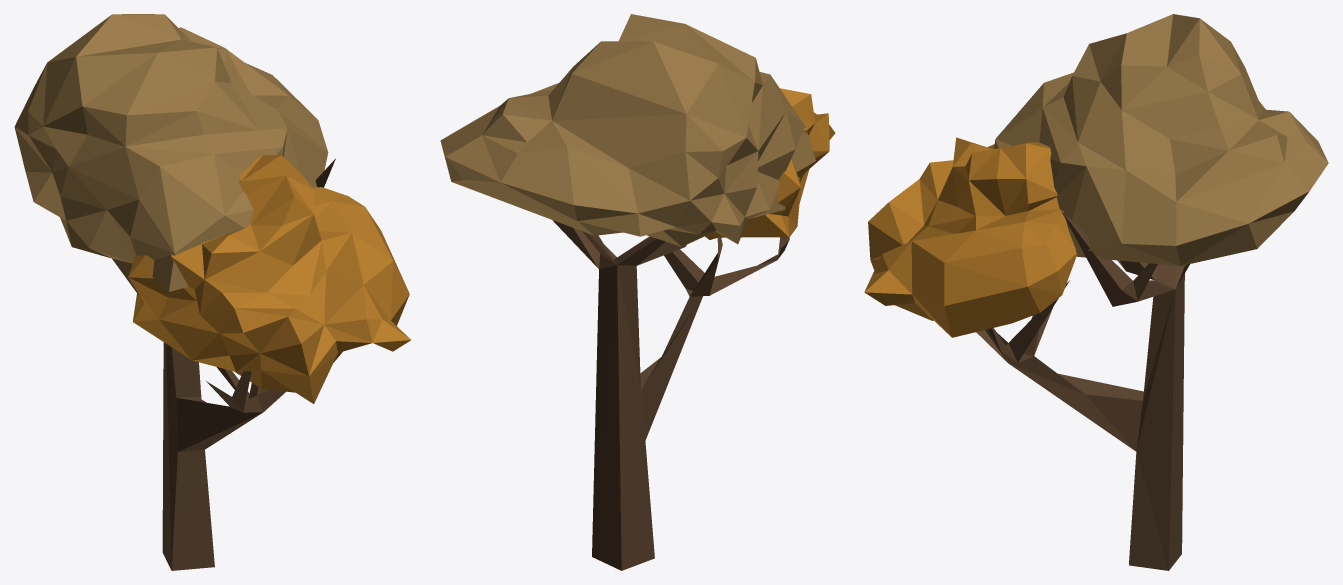
File: tree_autumn_2.glb
3 views of the same model, side by side, from view 1: azimuth 30°, elevation 25°; view 2: azimuth 150°, elevation 25°; view 3: azimuth 270°, elevation 25° (orthographic). The views are drawn at different scales.
Parts seen in each view (by area): view 1: lod0; view 2: lod0; view 3: lod0.
Boxes of the visible parts, left/top/right/bottom form: lod0: left=14, top=14, right=410, bottom=570; lod0: left=440, top=14, right=835, bottom=570; lod0: left=864, top=14, right=1328, bottom=570.
Size of what is drawn, in the model's own units: 3.62 by 6.79 by 5.53.
